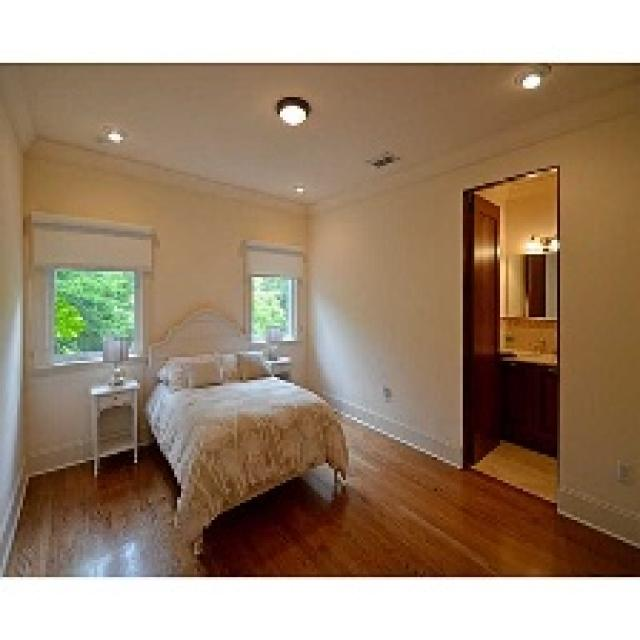Bed: (143, 306, 348, 554)
